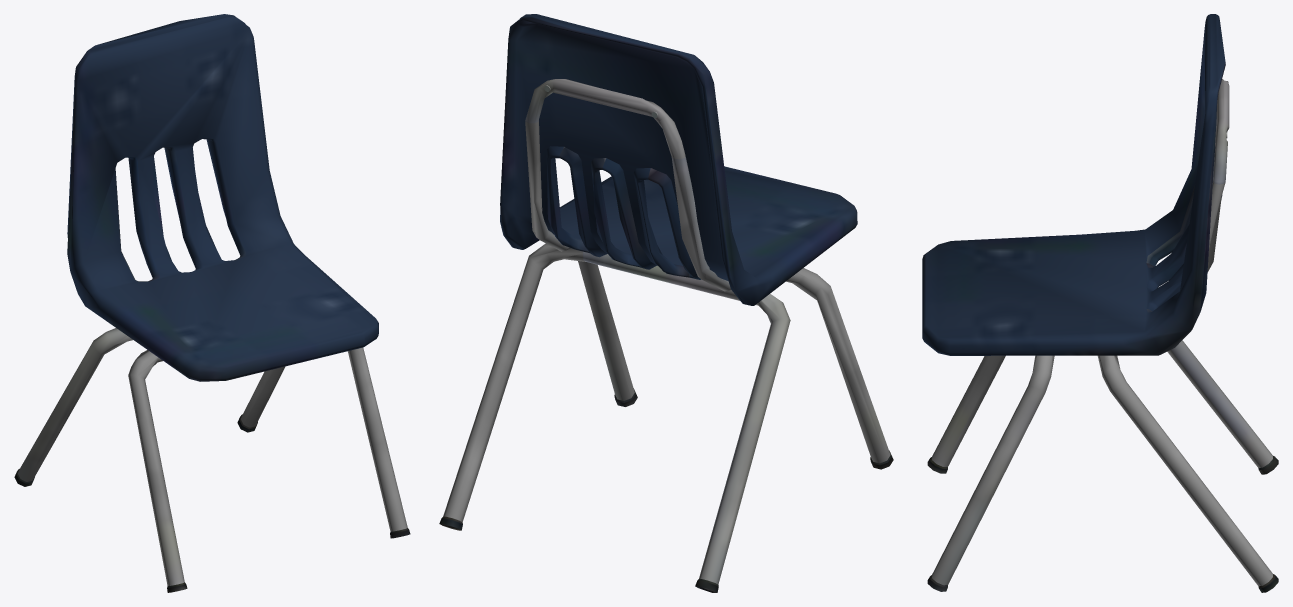
3 renders of one model, left to right at view 1: azimuth 30°, elevation 25°; view 2: azimuth 150°, elevation 25°; view 3: azimuth 270°, elevation 25°, orthographic. The views are drawn at different scales.
Visible parts, largest first — view 1: SchoolChair_01; view 2: SchoolChair_01; view 3: SchoolChair_01.
Part boxes in pixels (x1,y1,x2,y2): SchoolChair_01: (14, 14, 410, 592); SchoolChair_01: (439, 14, 893, 592); SchoolChair_01: (922, 14, 1278, 592).
Size of the model in its own units: 0.5659 by 1 by 0.6715.
Materials: 1 (1 with a texture image).
